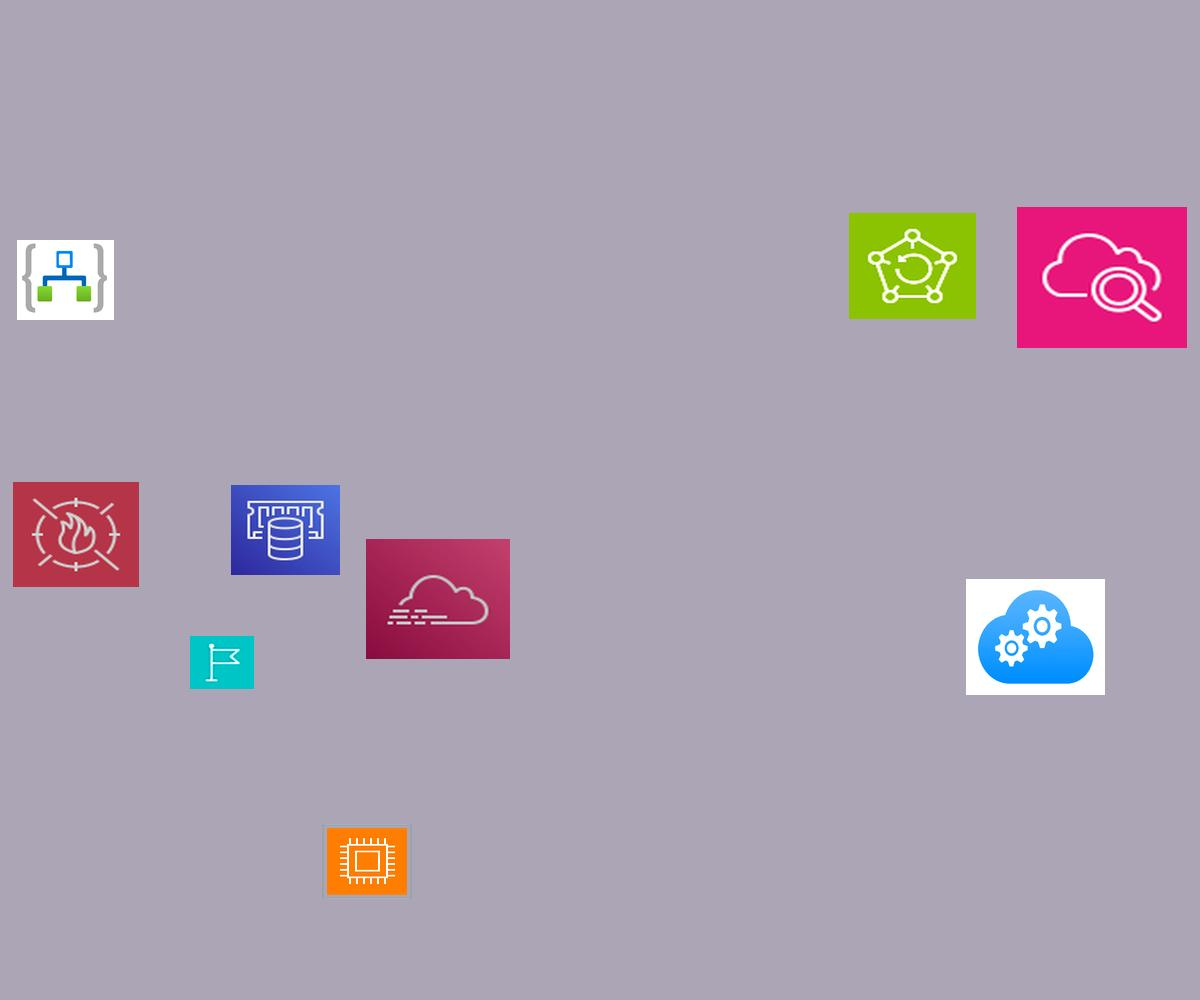AWS-Backup: (849, 213, 976, 319)
AWS-Category_Compute: (322, 824, 412, 899)
AWS-CloudTrail: (366, 539, 510, 659)
AWS-CloudWatch: (1017, 207, 1187, 348)
AWS-ElastiCache: (231, 485, 340, 575)
AWS-Region: (190, 636, 254, 689)
AWS-WAF: (13, 482, 139, 587)
Azure_cloud_services: (966, 579, 1105, 695)
Azure_integration-204-Logic-Apps: (17, 240, 114, 320)
